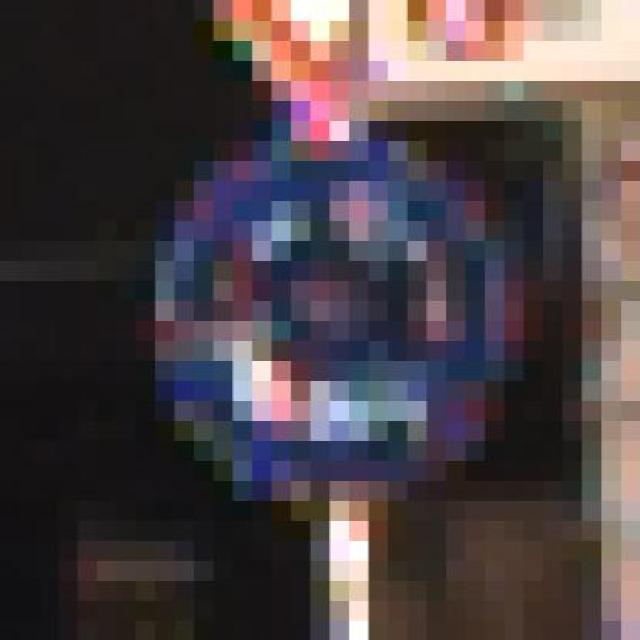Round-About: (116, 120, 562, 520)
